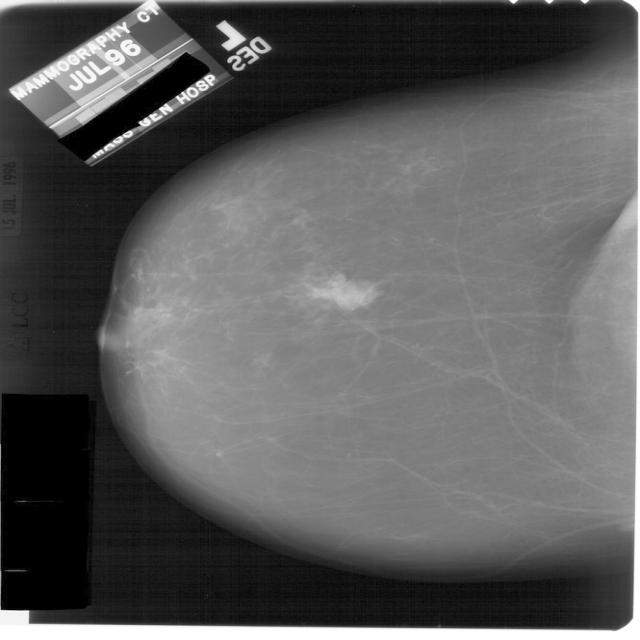tumour: (314, 278, 378, 308)
